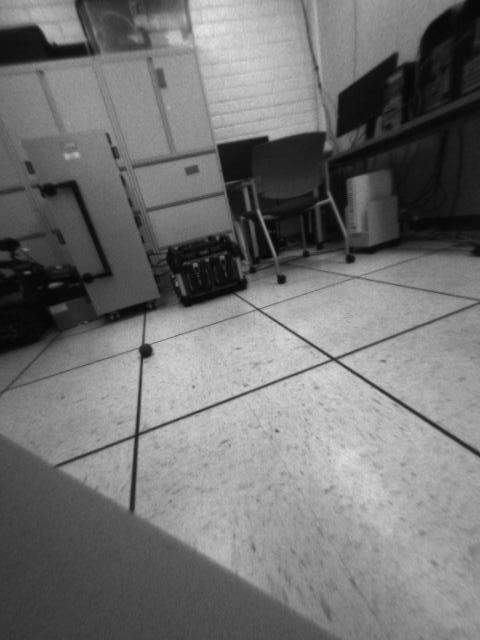dogtoy: (130, 338, 166, 364)
